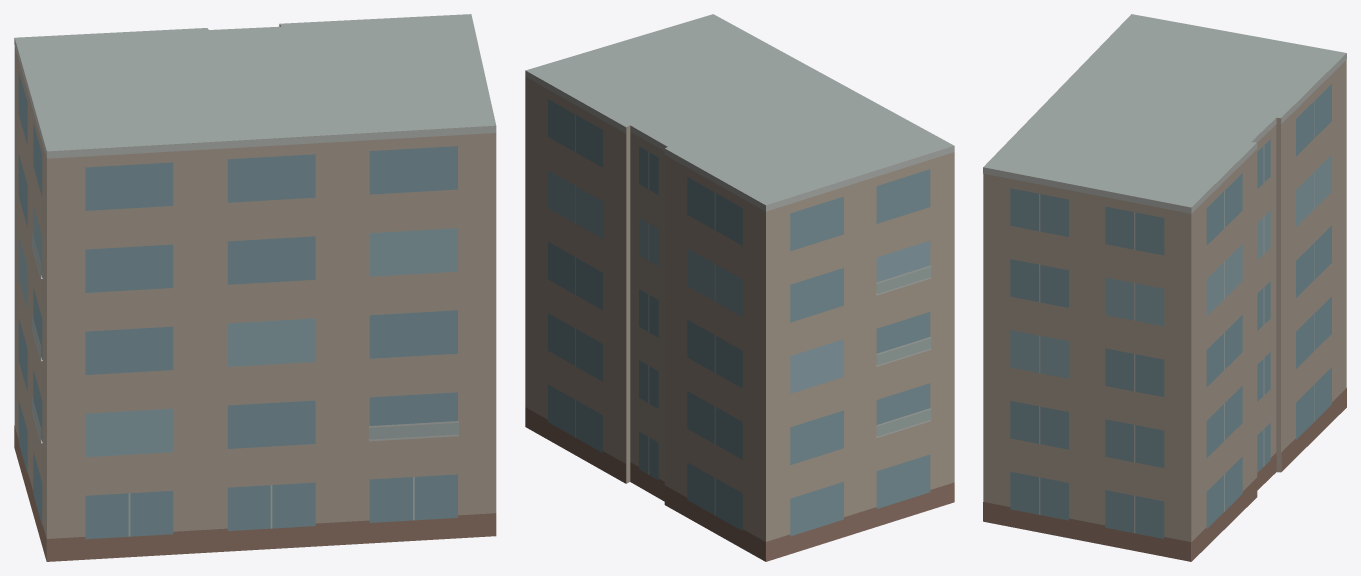
Rendered from survey-upis-33026364.glb.
3 views of the same model, side by side, from view 1: azimuth 30°, elevation 25°; view 2: azimuth 150°, elevation 25°; view 3: azimuth 270°, elevation 25° (orthographic). The views are drawn at different scales.
Visible parts, largest first — view 1: survey-upis-33026364.tmp; view 2: survey-upis-33026364.tmp; view 3: survey-upis-33026364.tmp.
Boxes of the visible parts, box(x1,y1,x2,y2) form: survey-upis-33026364.tmp: box(14, 14, 496, 561); survey-upis-33026364.tmp: box(525, 14, 954, 561); survey-upis-33026364.tmp: box(983, 14, 1346, 561).
Bounding box in the file's own units: 16.11 × 13.75 × 12.8.
